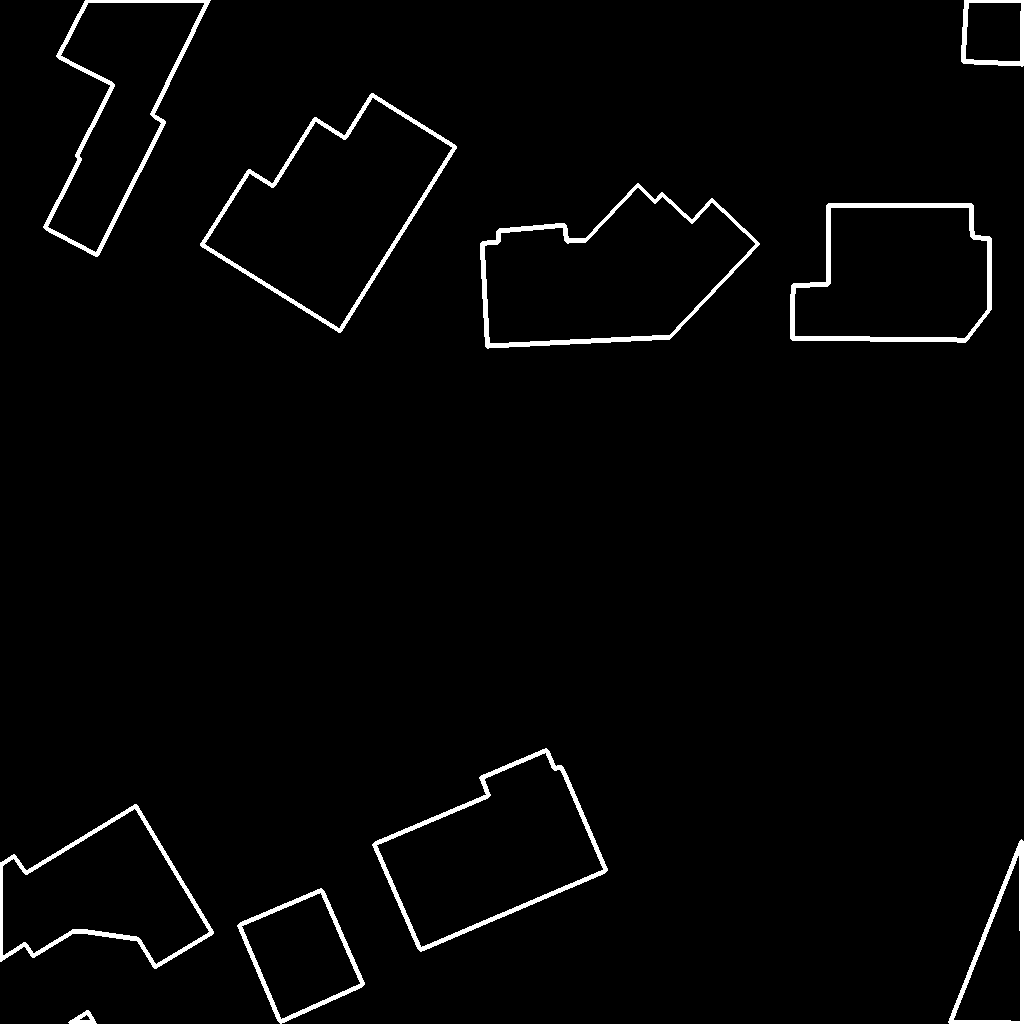building: (202, 95, 456, 332), (374, 750, 607, 951), (482, 185, 759, 347), (45, 0, 210, 256), (0, 806, 213, 968), (792, 205, 990, 341), (239, 890, 364, 1023), (950, 840, 1024, 1024), (963, 0, 1024, 65), (70, 1012, 96, 1024)
